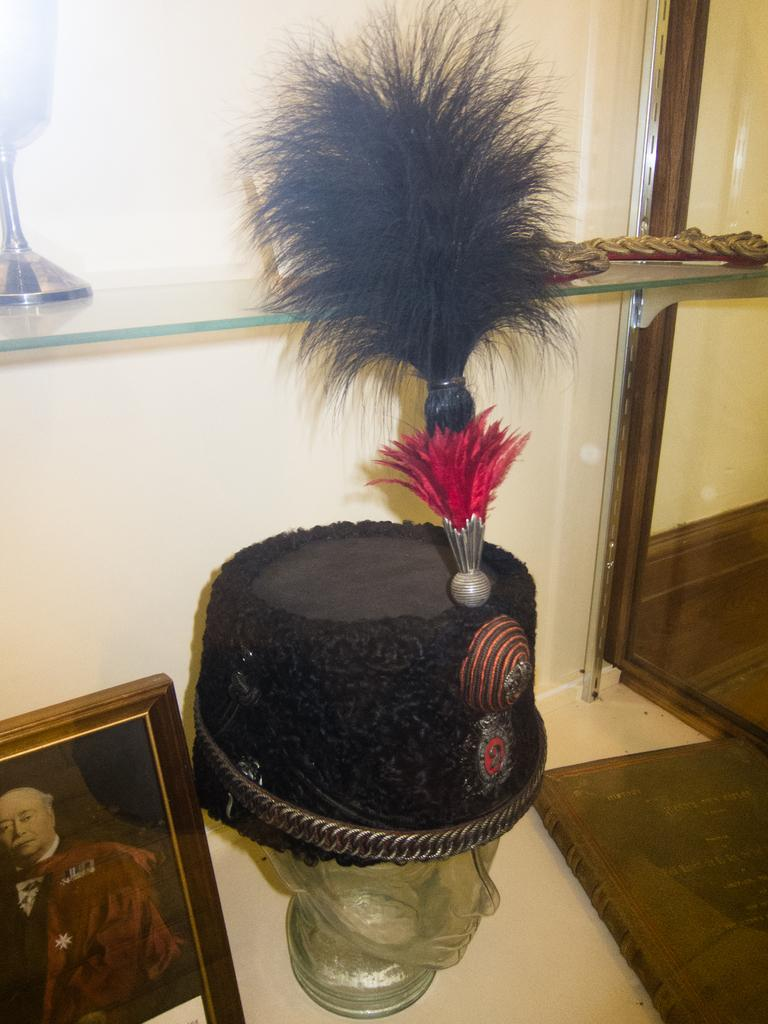Hat: (194, 0, 577, 859)
